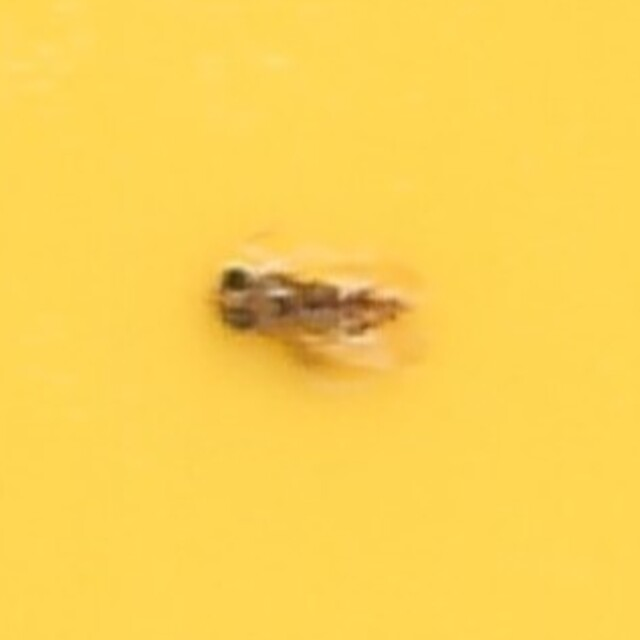Hemiptera: (202, 239, 438, 401)
